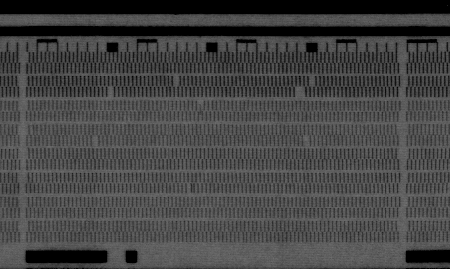Broken hole: (88, 135, 104, 148), (171, 73, 182, 88), (294, 88, 307, 100), (301, 136, 313, 148), (307, 75, 317, 87), (106, 88, 116, 99)
Oblique printing: (195, 100, 206, 115), (184, 182, 196, 194)
